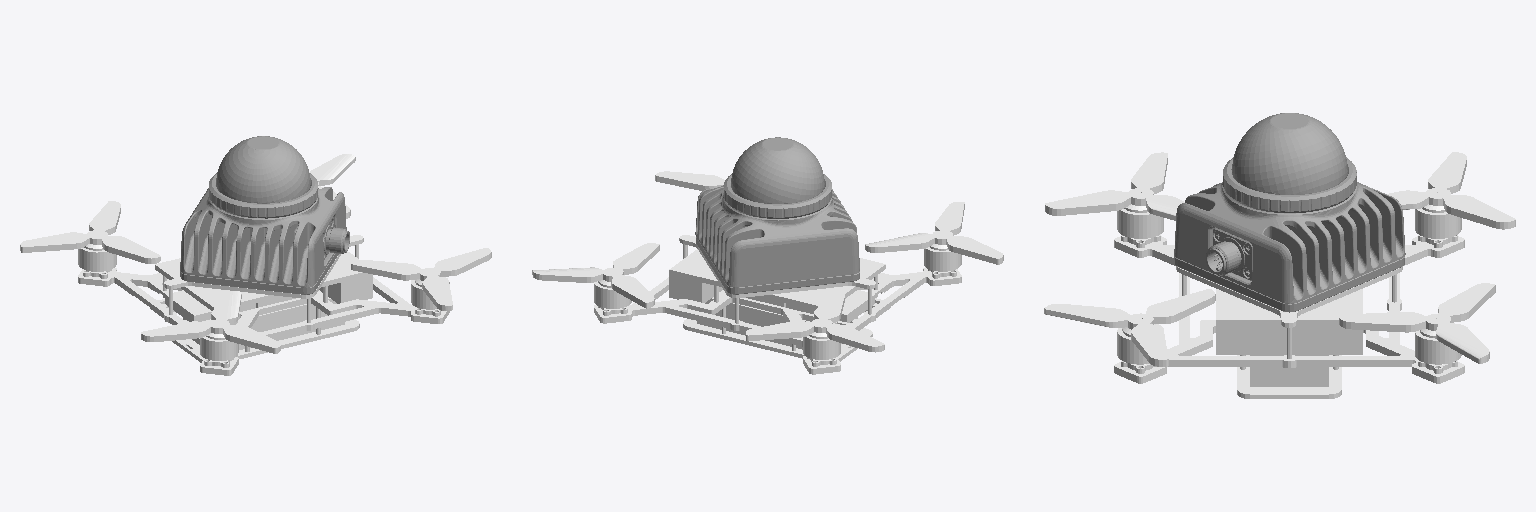
URDF robot description (uav_lidar):
<?xml version="1.0" encoding="utf-8"?>
<!-- This URDF was automatically created by SolidWorks to URDF Exporter! Originally created by [author] ([email redacted]) 
     Commit Version: 1.6.0-4-g7f85cfe  Build Version: 1.6.7995.38578
     For more information, please see http://wiki.ros.org/sw_urdf_exporter -->
<robot
  name="uav_lidar">
  <link
    name="base_link">
    <inertial>
      <origin
        xyz="0.0025461 2.1825E-05 -0.0013634"
        rpy="0 0 0" />
      <mass
        value="0.280" />
      <inertia
        ixx="2.6287e-04"
        ixy="0"
        ixz="0"
        iyy="5.41904e-04"
        iyz="0"
        izz="3.2596e-04" />
    </inertial>
    <visual>
      <origin
        xyz="0 0 0"
        rpy="0 0 0" />
      <geometry>
        <mesh
          filename="package://uav_lidar/meshes/base_link.STL" />
      </geometry>
      <material
        name="">
        <color
          rgba="1 1 1 1" />
      </material>
    </visual>
    <collision>
      <origin
        xyz="0 0 0"
        rpy="0 0 0" />
      <geometry>
        <mesh
          filename="package://uav_lidar/meshes/base_link.STL" />
      </geometry>
    </collision>
  </link>
  <link
    name="link1">
    <inertial>
      <origin
        xyz="-0.000109520787825473 0.000222152709716768 0.0180133986909307"
        rpy="0 0 0" />
      <mass
        value="0.00295011511544517" />
      <inertia
        ixx="6.45847616134155E-07"
        ixy="7.28244795468249E-09"
        ixz="4.15229930824278E-10"
        iyy="6.58480649037556E-07"
        iyz="-8.47976736411843E-10"
        izz="1.29996134075171E-06" />
    </inertial>
    <visual>
      <origin
        xyz="0 0 0"
        rpy="0 0 0" />
      <geometry>
        <mesh
          filename="package://uav_lidar/meshes/link1.STL" />
      </geometry>
      <material
        name="">
        <color
          rgba="1 1 1 1" />
      </material>
    </visual>
    <collision>
      <origin
        xyz="0 0 0"
        rpy="0 0 0" />
      <geometry>
        <mesh
          filename="package://uav_lidar/meshes/link1.STL" />
      </geometry>
    </collision>
  </link>
  <joint
    name="joint1"
    type="continuous">
    <origin
      xyz="-0.0565685424949249 0.0565685424949212 0"
      rpy="0 0 0" />
    <parent
      link="base_link" />
    <child
      link="link1" />
    <axis
      xyz="0 0 -1" />
  </joint>
  <link
    name="link2">
    <inertial>
      <origin
        xyz="3.88262453765997E-05 0.000244626129644716 0.0180133988631824"
        rpy="0 0 0" />
      <mass
        value="0.00295011570061734" />
      <inertia
        ixx="6.43191668196306E-07"
        ixy="-3.52692710725344E-09"
        ixz="-1.50490575426909E-10"
        iyy="6.61136016431894E-07"
        iyz="-9.32115252460112E-10"
        izz="1.29996076244585E-06" />
    </inertial>
    <visual>
      <origin
        xyz="0 0 0"
        rpy="0 0 0" />
      <geometry>
        <mesh
          filename="package://uav_lidar/meshes/link2.STL" />
      </geometry>
      <material
        name="">
        <color
          rgba="1 1 1 1" />
      </material>
    </visual>
    <collision>
      <origin
        xyz="0 0 0"
        rpy="0 0 0" />
      <geometry>
        <mesh
          filename="package://uav_lidar/meshes/link2.STL" />
      </geometry>
    </collision>
  </link>
  <joint
    name="joint2"
    type="continuous">
    <origin
      xyz="0.0565685424949239 -0.0565685424949243 0"
      rpy="0 0 0" />
    <parent
      link="base_link" />
    <child
      link="link2" />
    <axis
      xyz="0 0 -1" />
  </joint>
  <link
    name="link3">
    <inertial>
      <origin
        xyz="-0.000233137779298842 -8.36459474903919E-05 0.0179866009042431"
        rpy="0 0 0" />
      <mass
        value="0.0029501151561727" />
      <inertia
        ixx="6.59226248627519E-07"
        ixy="-6.56214012683297E-09"
        ixz="-8.87866253725555E-10"
        iyy="6.45101368576168E-07"
        iyz="-3.21223962585742E-10"
        izz="1.29996069664668E-06" />
    </inertial>
    <visual>
      <origin
        xyz="0 0 0"
        rpy="0 0 0" />
      <geometry>
        <mesh
          filename="package://uav_lidar/meshes/link3.STL" />
      </geometry>
      <material
        name="">
        <color
          rgba="1 1 1 1" />
      </material>
    </visual>
    <collision>
      <origin
        xyz="0 0 0"
        rpy="0 0 0" />
      <geometry>
        <mesh
          filename="package://uav_lidar/meshes/link3.STL" />
      </geometry>
    </collision>
  </link>
  <joint
    name="joint3"
    type="continuous">
    <origin
      xyz="0.0565685424949232 0.0565685424949234 0"
      rpy="0 0 0" />
    <parent
      link="base_link" />
    <child
      link="link3" />
    <axis
      xyz="0 0 -1" />
  </joint>
  <link
    name="link4">
    <inertial>
      <origin
        xyz="-0.000191437325972238 -0.000157160253741337 0.0179866009342675"
        rpy="0 0 0" />
      <mass
        value="0.00295011452844274" />
      <inertia
        ixx="6.53473638250452E-07"
        ixy="-9.55091516088967E-09"
        ixz="-7.28164455976834E-10"
        iyy="6.50854354977349E-07"
        iyz="-6.01053052831554E-10"
        izz="1.29996107178079E-06" />
    </inertial>
    <visual>
      <origin
        xyz="0 0 0"
        rpy="0 0 0" />
      <geometry>
        <mesh
          filename="package://uav_lidar/meshes/link4.STL" />
      </geometry>
      <material
        name="">
        <color
          rgba="1 1 1 1" />
      </material>
    </visual>
    <collision>
      <origin
        xyz="0 0 0"
        rpy="0 0 0" />
      <geometry>
        <mesh
          filename="package://uav_lidar/meshes/link4.STL" />
      </geometry>
    </collision>
  </link>
  <joint
    name="joint4"
    type="continuous">
    <origin
      xyz="-0.0565685424949237 -0.0565685424949241 0"
      rpy="0 0 0" />
    <parent
      link="base_link" />
    <child
      link="link4" />
    <axis
      xyz="0 0 -1" />
  </joint>
  <link
    name="link_lidar">
    <inertial>
      <origin
        xyz="3.8230964319319E-07 -6.26231575659442E-06 -0.0249682835917488"
        rpy="0 0 0" />
      <mass
        value="0.220" />
      <inertia
        ixx="1.0428E-04"
        ixy="0"
        ixz="0"
        iyy="1.0732E-04"
        iyz="0"
        izz="1.0430E-04" />
    </inertial>
    <visual>
      <origin
        xyz="0 0 0"
        rpy="0 0 0" />
      <geometry>
        <mesh
          filename="package://uav_lidar/meshes/link_lidar.STL" />
      </geometry>
      <material
        name="">
        <color
          rgba="0.698039215686274 0.698039215686274 0.698039215686274 1" />
      </material>
    </visual>
    <collision>
      <origin
        xyz="0 0 0"
        rpy="0 0 0" />
      <geometry>
        <mesh
          filename="package://uav_lidar/meshes/link_lidar.STL" />
      </geometry>
    </collision>
  </link>
  <joint
    name="joint_lidar"
    type="fixed">
    <origin
      xyz="0 0 0.063"
      rpy="0 0 2.35619449019235" />
    <parent
      link="base_link" />
    <child
      link="link_lidar" />
    <axis
      xyz="0 0 0" />
  </joint>
</robot>

--- Render facts (derived) ---
Views: 3 orthographic renders of the robot side by side, from view 1: azimuth 30°, elevation 25°; view 2: azimuth 150°, elevation 25°; view 3: azimuth 270°, elevation 25°.
Robot: uav_lidar — 6 links, 5 joints (4 continuous, 1 fixed); root link base_link; default pose: all joints at 0.
Visible links, largest first — view 1: link_lidar, base_link, link1, link2, link4, link3; view 2: link_lidar, base_link, link1, link3, link4, link2; view 3: link_lidar, base_link, link3, link2, link4, link1.
Link boxes in pixels (bbox=[...]): link_lidar: bbox=[180, 136, 349, 294]; base_link: bbox=[78, 234, 449, 375]; link1: bbox=[20, 201, 160, 263]; link2: bbox=[351, 248, 491, 310]; link4: bbox=[141, 291, 280, 353]; link3: bbox=[309, 154, 355, 218]; link_lidar: bbox=[695, 137, 859, 294]; base_link: bbox=[594, 234, 961, 374]; link1: bbox=[746, 289, 884, 352]; link3: bbox=[532, 243, 659, 308]; link4: bbox=[865, 202, 1003, 264]; link2: bbox=[655, 171, 724, 190]; link_lidar: bbox=[1174, 113, 1405, 312]; base_link: bbox=[1114, 192, 1464, 398]; link3: bbox=[1339, 283, 1495, 363]; link2: bbox=[1044, 289, 1215, 366]; link4: bbox=[1045, 152, 1184, 220]; link1: bbox=[1387, 152, 1515, 229].
Bounding box of the posed robot: 0.1872 × 0.1792 × 0.0971 m (x, y, z).
Meshes: 6 distinct files referenced, 6 mesh visuals loaded (6 binary STL).
